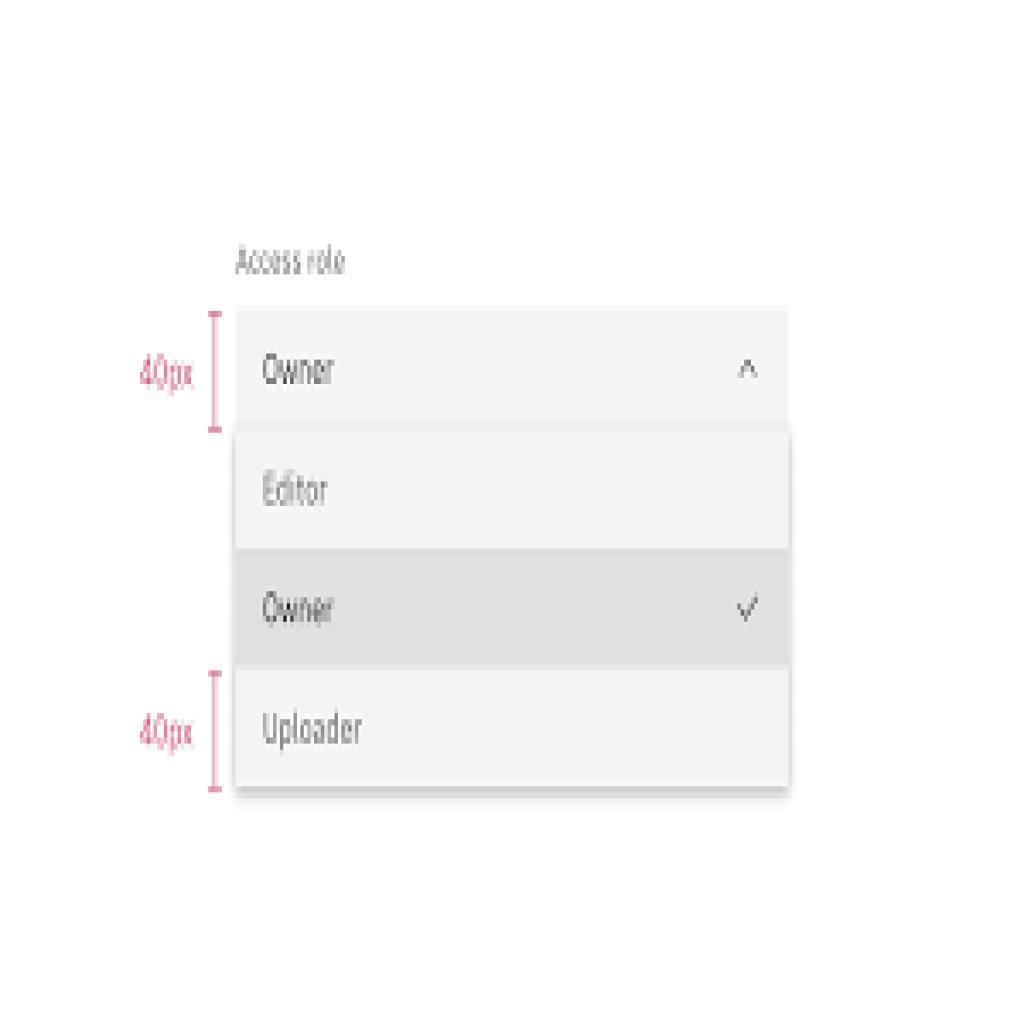dropdown: (239, 333, 787, 421)
icon: (731, 585, 765, 632)
